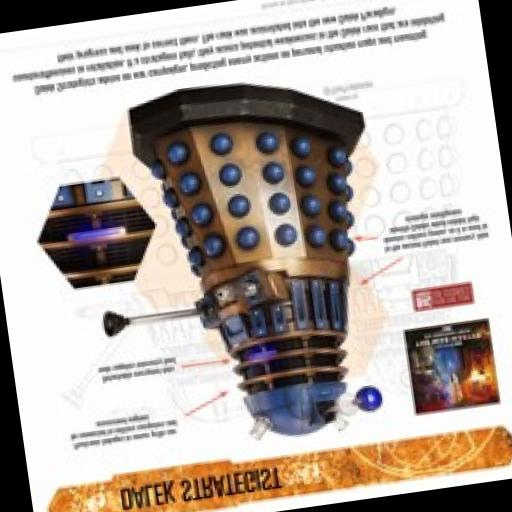dalek: (69, 66, 408, 465)
